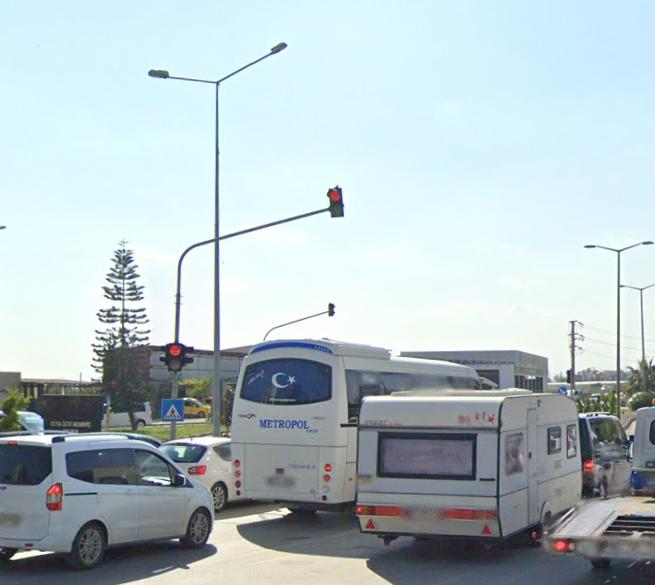redlight: (327, 184, 348, 219), (167, 342, 184, 371)
